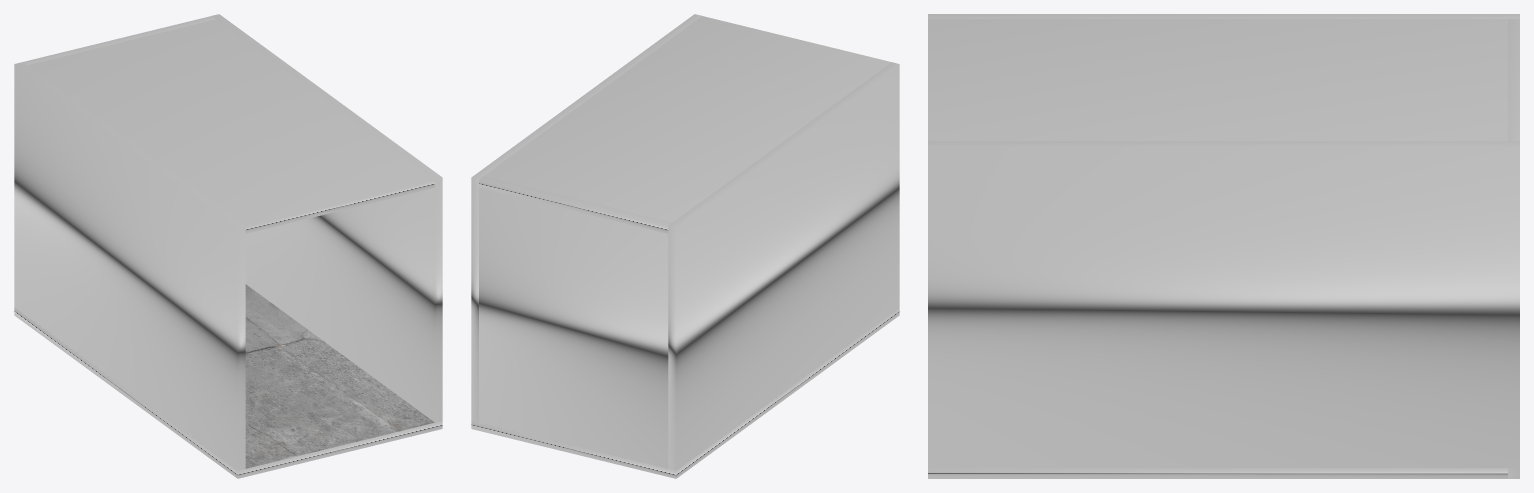
File: BareCell.fbx
3 views of the same model, side by side, from view 1: azimuth 30°, elevation 25°; view 2: azimuth 150°, elevation 25°; view 3: azimuth 270°, elevation 25° (orthographic). The views are drawn at different scales.
Parts seen in each view (by area): view 1: Jailcell.002; view 2: Jailcell.002; view 3: Jailcell.002.
Boxes of the visible parts, x1,y1,x2,y2 form: Jailcell.002: [14, 14, 442, 478]; Jailcell.002: [471, 14, 899, 478]; Jailcell.002: [928, 14, 1519, 478].
Bounding box in the file's own units: 265 × 310 × 500.
